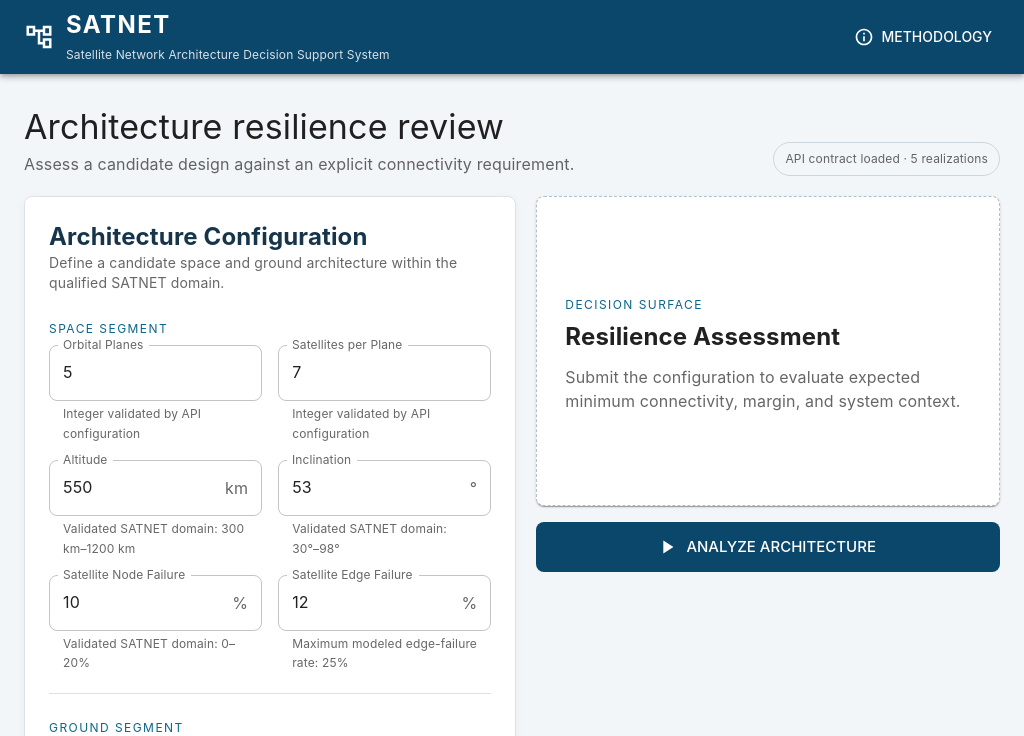
SATNET DSS UI › renders available system context and keeps details collapsed by default
The image size is (1024, 736).
Click the button with test id "analyze-button" at (768, 547), box x1=536 y1=522 x2=1000 y2=572
(page scrolled)
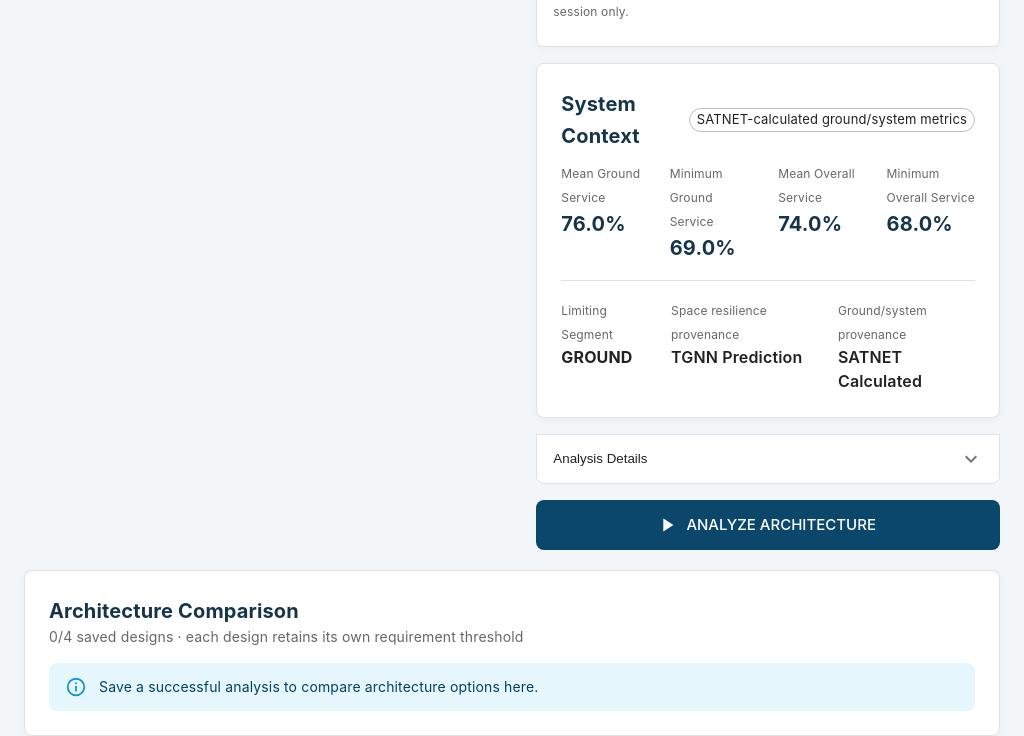
Expected: the text "Mean Ground Service" is shown, x1=561 y1=166 x2=640 y2=204
Expected: the heading "76.0%" is shown, x1=561 y1=212 x2=626 y2=236
Expected: the text "GROUND" is shown, x1=561 y1=346 x2=632 y2=366
